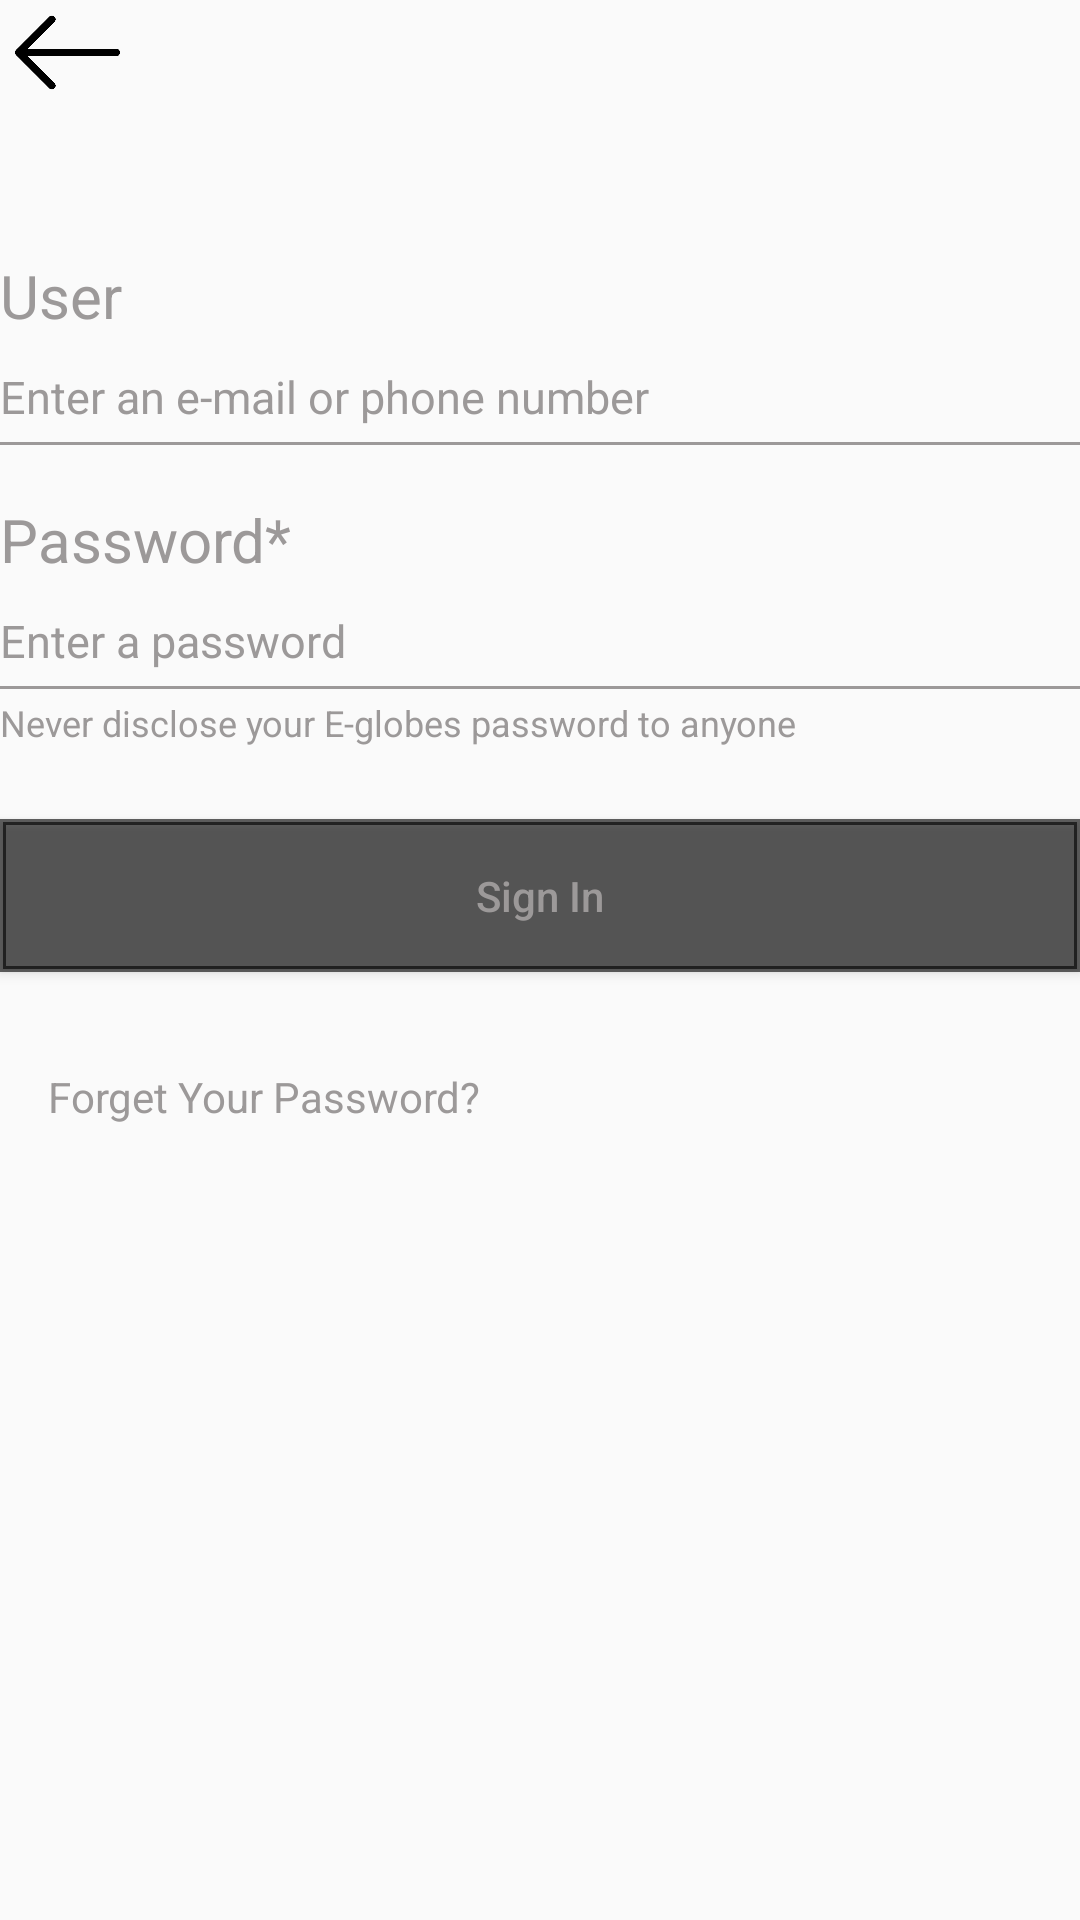

Icons on this 1080px×1920px Android screen, each with the point to tap as [x,y]:
left: [67,52]
